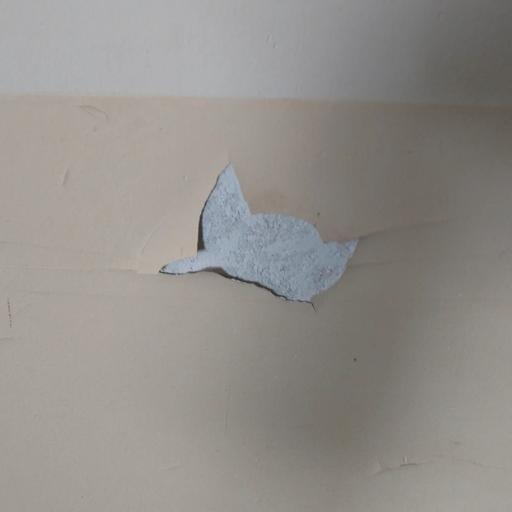peeling: (114, 138, 459, 314)
